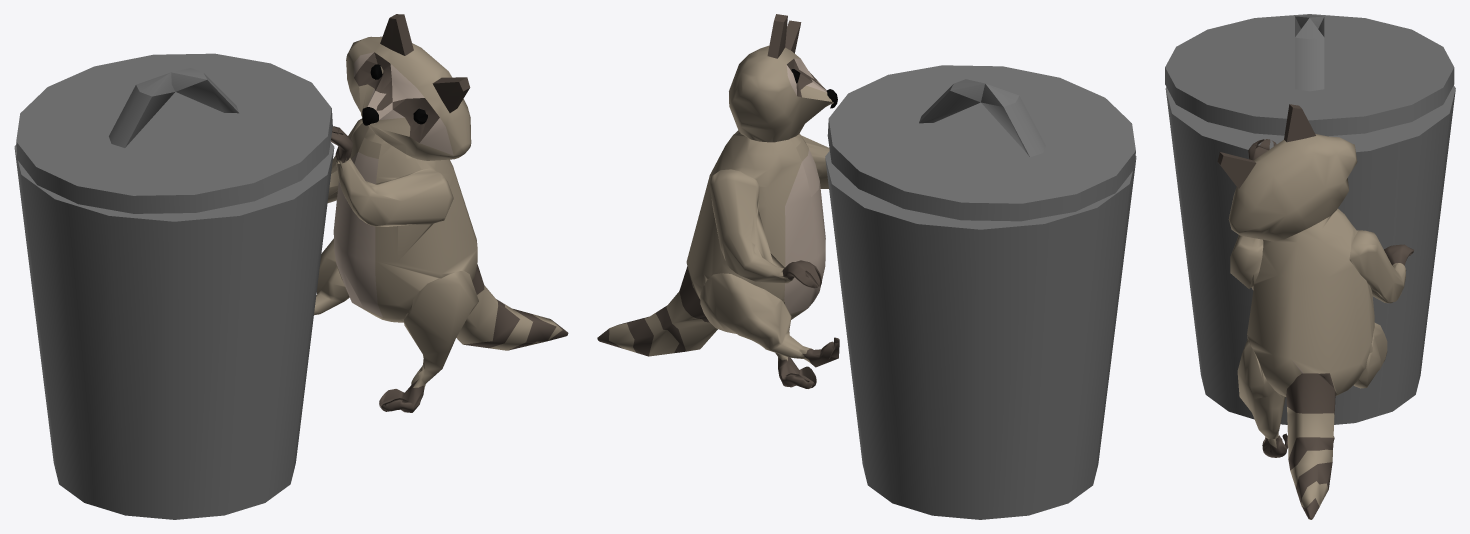
Rendered from raccoon.fbx.
3 views of the same model, side by side, from view 1: azimuth 30°, elevation 25°; view 2: azimuth 150°, elevation 25°; view 3: azimuth 270°, elevation 25° (orthographic). The views are drawn at different scales.
Visible parts, largest first — view 1: trash_bottom, raccoon, pCylinder1; view 2: trash_bottom, pCylinder1, raccoon; view 3: raccoon, trash_bottom, pCylinder1.
Boxes of the visible parts, x1,y1,x2,y2 form: trash_bottom: [14, 142, 334, 519]; raccoon: [314, 14, 568, 412]; pCylinder1: [16, 53, 332, 213]; trash_bottom: [825, 151, 1136, 519]; pCylinder1: [827, 65, 1135, 221]; raccoon: [597, 14, 839, 388]; raccoon: [1217, 104, 1413, 519]; trash_bottom: [1165, 85, 1455, 424]; pCylinder1: [1165, 14, 1454, 136].
Bounding box in the file's own units: 3.03 × 2.22 × 1.58.
